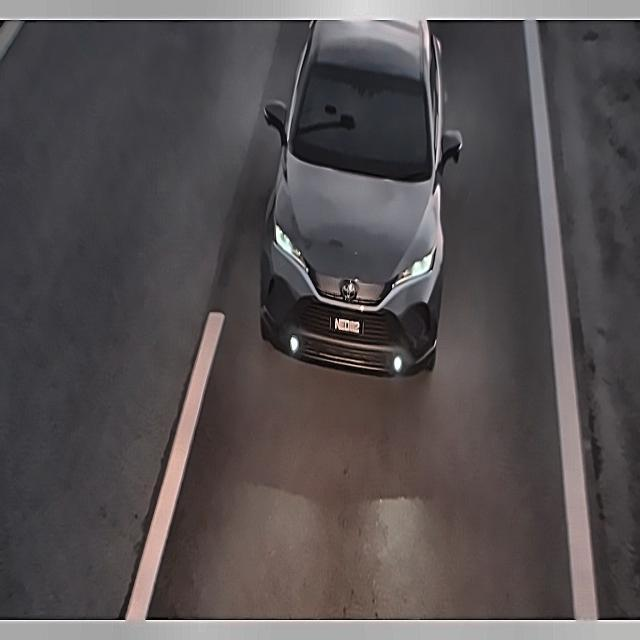car: (328, 311, 365, 344)
